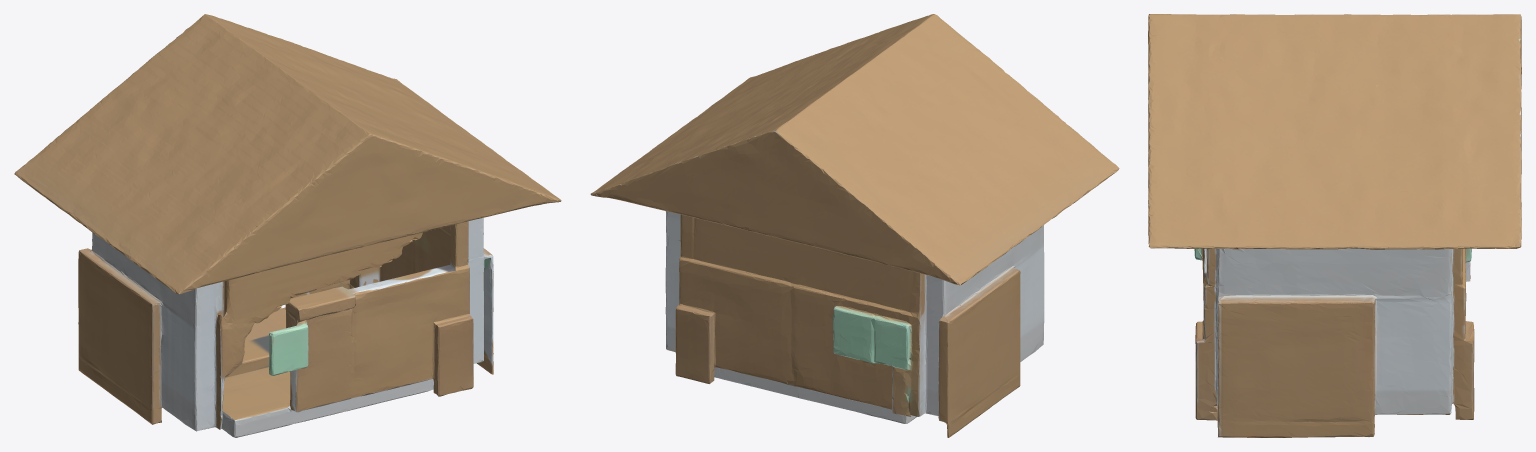
Rendered from paint-batch-cottage_b.glb.
3 renders of one model, left to right at view 1: azimuth 30°, elevation 25°; view 2: azimuth 150°, elevation 25°; view 3: azimuth 270°, elevation 25°, orthographic. The views are drawn at different scales.
Visible parts, largest first — view 1: geometry_0; view 2: geometry_0; view 3: geometry_0.
Part boxes in pixels (bbox=[...]): geometry_0: bbox=[14, 14, 561, 437]; geometry_0: bbox=[590, 14, 1119, 437]; geometry_0: bbox=[1148, 14, 1521, 437].
Size of the model in its own units: 2 by 1.5 by 1.49.
1 material, 1 textured.
